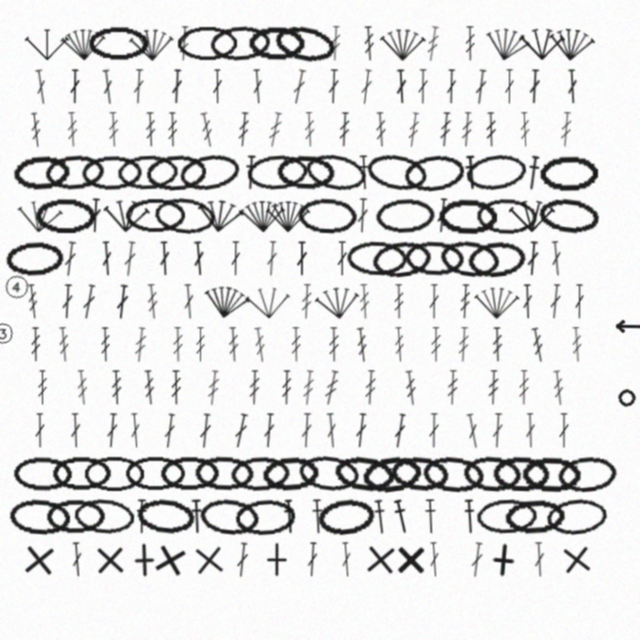chain: (272, 21, 337, 67), (177, 150, 243, 195), (303, 150, 368, 195), (364, 150, 429, 195), (464, 151, 528, 194), (438, 237, 501, 280), (402, 152, 466, 194), (370, 238, 434, 280), (332, 453, 396, 495), (537, 195, 600, 237), (360, 453, 423, 495), (153, 195, 216, 236), (297, 453, 360, 494), (545, 496, 608, 537), (421, 454, 485, 494), (135, 496, 197, 537), (198, 496, 260, 537), (556, 454, 619, 494), (316, 496, 377, 537), (466, 239, 528, 279), (389, 454, 451, 494), (209, 24, 272, 63), (8, 497, 71, 536), (44, 153, 106, 192), (145, 153, 207, 192), (246, 153, 308, 192), (73, 497, 135, 536), (462, 454, 523, 493), (234, 498, 296, 536), (375, 197, 436, 235), (230, 455, 291, 493), (504, 498, 565, 536), (12, 154, 72, 192), (5, 240, 65, 278), (261, 455, 321, 493), (117, 154, 178, 191), (346, 240, 407, 277), (194, 455, 255, 492), (476, 498, 537, 535), (476, 198, 538, 234), (276, 154, 336, 191), (297, 197, 357, 234), (404, 240, 464, 277), (81, 155, 142, 191), (492, 455, 551, 492), (13, 456, 73, 492), (521, 456, 581, 492), (125, 456, 186, 491), (539, 155, 598, 191), (438, 198, 497, 234), (88, 26, 148, 61), (177, 26, 237, 61), (35, 198, 95, 233), (125, 198, 185, 233), (52, 456, 112, 491), (84, 456, 144, 491), (160, 456, 220, 491), (46, 499, 106, 534), (248, 26, 306, 61)
double: (290, 69, 308, 105), (80, 284, 98, 320), (232, 413, 250, 449), (464, 413, 482, 449), (33, 69, 49, 105), (100, 69, 116, 105), (473, 69, 489, 105), (62, 241, 78, 277), (122, 241, 138, 277), (392, 413, 408, 449), (469, 542, 485, 578), (359, 69, 374, 105), (115, 284, 130, 320), (162, 413, 177, 449), (198, 413, 213, 449), (235, 542, 250, 578), (435, 198, 450, 233), (549, 241, 564, 276), (548, 284, 563, 319), (324, 413, 339, 448), (100, 241, 114, 276), (192, 241, 206, 276), (265, 241, 279, 276), (526, 241, 540, 276), (182, 284, 196, 319), (105, 413, 119, 448), (262, 413, 276, 448), (354, 413, 368, 448), (70, 542, 84, 577), (132, 69, 145, 104), (251, 69, 264, 104), (327, 69, 340, 104), (395, 69, 408, 104), (528, 69, 541, 104), (566, 69, 579, 104), (89, 198, 102, 233), (356, 198, 369, 233), (158, 241, 171, 276), (61, 284, 74, 319), (521, 284, 534, 319), (69, 413, 82, 448), (129, 413, 142, 448), (300, 413, 313, 448), (491, 413, 504, 448), (524, 413, 537, 448), (306, 542, 319, 577), (340, 542, 353, 577), (428, 542, 441, 577), (533, 542, 546, 577), (69, 69, 81, 104), (171, 69, 183, 104), (417, 69, 429, 104), (296, 241, 308, 276), (336, 241, 348, 276), (428, 284, 440, 319), (34, 413, 46, 448), (428, 413, 440, 448), (558, 413, 570, 448), (212, 69, 223, 104), (446, 69, 457, 104), (504, 69, 515, 104), (230, 241, 241, 276), (574, 284, 585, 319)
fan: (481, 22, 534, 66), (201, 280, 252, 323), (195, 195, 245, 236), (547, 24, 596, 64), (313, 282, 362, 322), (16, 196, 64, 235), (244, 283, 292, 320), (60, 25, 107, 62), (103, 197, 150, 234), (239, 197, 286, 234), (128, 26, 175, 62), (380, 26, 426, 62), (474, 284, 520, 320), (24, 26, 70, 61), (519, 26, 565, 61), (265, 198, 311, 233), (509, 198, 555, 233)
half_double: (391, 498, 411, 535), (525, 155, 542, 191), (372, 499, 388, 535), (463, 155, 479, 190), (189, 499, 204, 534), (282, 499, 297, 534), (310, 499, 325, 534), (423, 499, 438, 534), (462, 499, 477, 534), (244, 155, 258, 190), (357, 155, 371, 190), (135, 499, 148, 534)
noise: (3, 273, 30, 300), (615, 386, 638, 409), (0, 321, 15, 346), (613, 320, 640, 333)
single: (149, 539, 191, 581), (557, 540, 596, 579), (20, 541, 58, 579), (190, 541, 228, 579), (484, 541, 522, 579), (362, 541, 399, 578), (92, 542, 128, 578), (126, 542, 162, 578), (259, 542, 294, 577), (393, 542, 428, 577)
treble: (322, 370, 341, 406), (198, 112, 216, 148), (266, 112, 284, 148), (529, 327, 547, 363), (425, 26, 441, 62), (252, 327, 268, 363), (403, 370, 419, 406), (406, 112, 421, 148), (133, 327, 148, 363), (206, 370, 221, 406), (301, 370, 316, 406), (551, 370, 566, 406), (438, 112, 453, 147), (145, 284, 160, 319), (75, 370, 90, 405), (142, 370, 157, 405), (29, 112, 43, 148), (355, 327, 369, 363), (362, 26, 376, 61), (374, 112, 388, 147), (460, 112, 474, 147), (559, 112, 573, 147), (26, 284, 40, 319), (57, 327, 71, 362), (570, 327, 584, 362), (329, 26, 342, 61), (66, 112, 79, 147), (107, 112, 120, 147), (144, 112, 157, 147), (237, 112, 250, 147), (303, 112, 316, 147), (338, 112, 351, 147), (300, 284, 313, 319), (358, 284, 371, 319), (227, 327, 240, 362), (393, 327, 406, 362), (457, 327, 470, 362), (491, 327, 504, 362), (110, 370, 123, 405), (248, 370, 261, 405), (364, 370, 377, 405), (446, 370, 459, 405), (487, 370, 500, 405), (178, 26, 190, 61), (464, 26, 476, 61), (485, 112, 497, 147), (519, 112, 531, 147), (393, 284, 405, 319), (459, 284, 471, 319), (172, 327, 184, 362), (290, 327, 302, 362), (328, 327, 340, 362), (430, 327, 442, 362), (170, 370, 182, 405), (518, 370, 530, 405), (167, 112, 178, 147), (30, 327, 41, 362), (100, 327, 111, 362), (195, 327, 206, 362), (37, 370, 48, 405), (281, 370, 292, 405)
